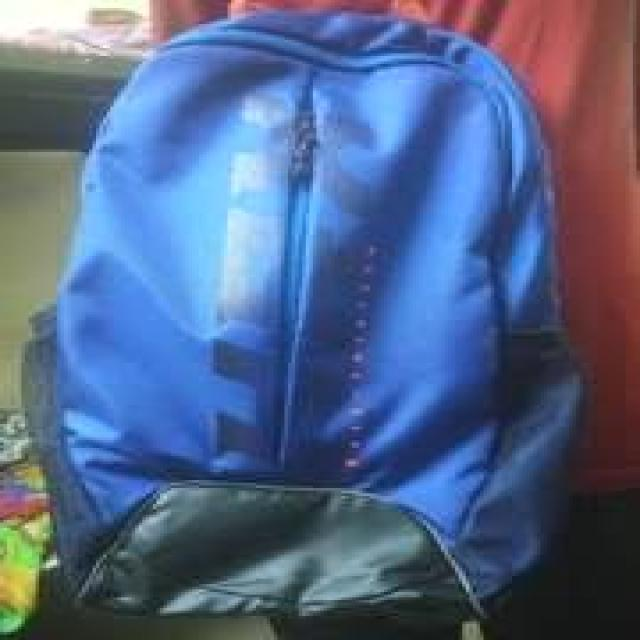backpack: (22, 9, 588, 639)
